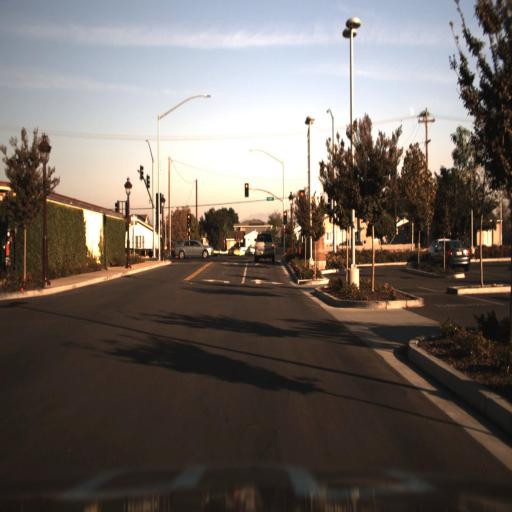car: (169, 234, 212, 261), (436, 240, 470, 270), (250, 227, 279, 261)
trafficLight-Red: (242, 180, 252, 200), (185, 212, 194, 232), (242, 179, 250, 195), (300, 184, 306, 203), (281, 208, 289, 222), (185, 210, 193, 222)
